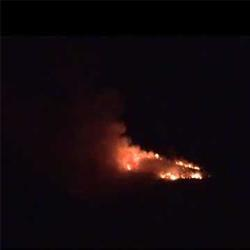fire: (160, 171, 212, 181)
smoke: (87, 128, 123, 173)
